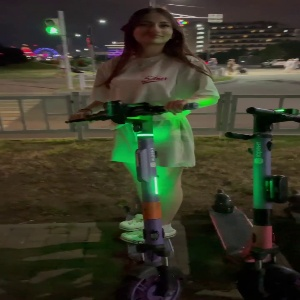human on a scooter: (65, 1, 220, 300)
